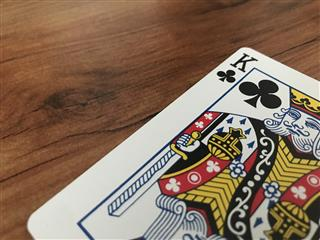KingOfClubs: (25, 45, 320, 240)
